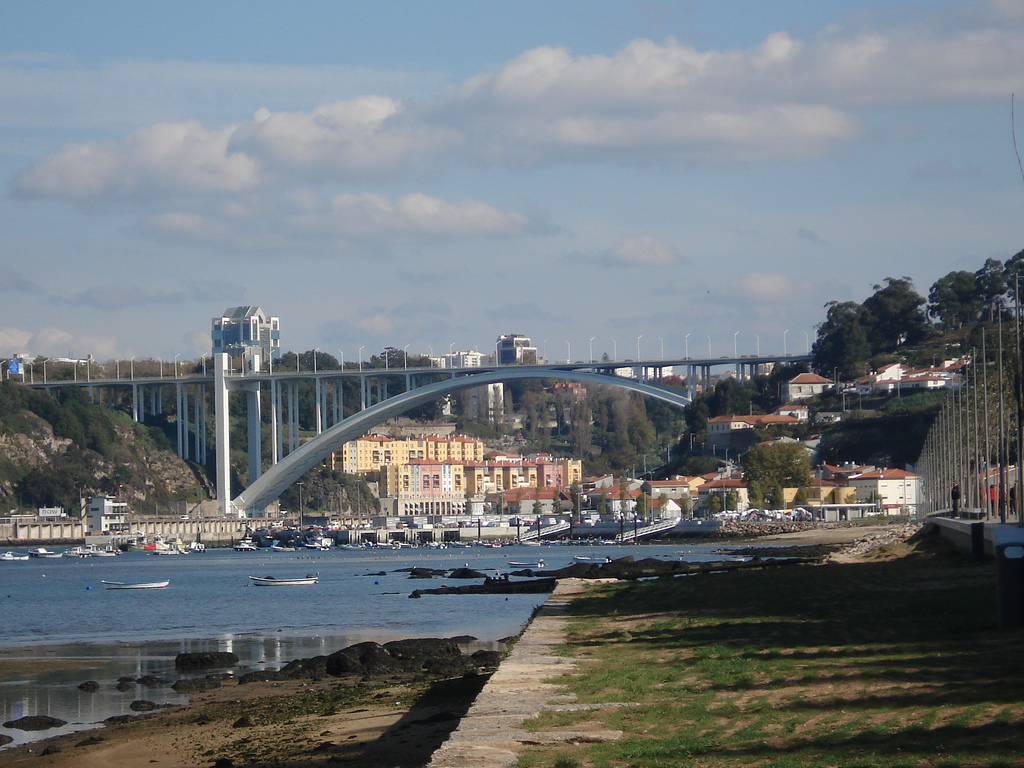arrabida: (25, 347, 819, 519)
